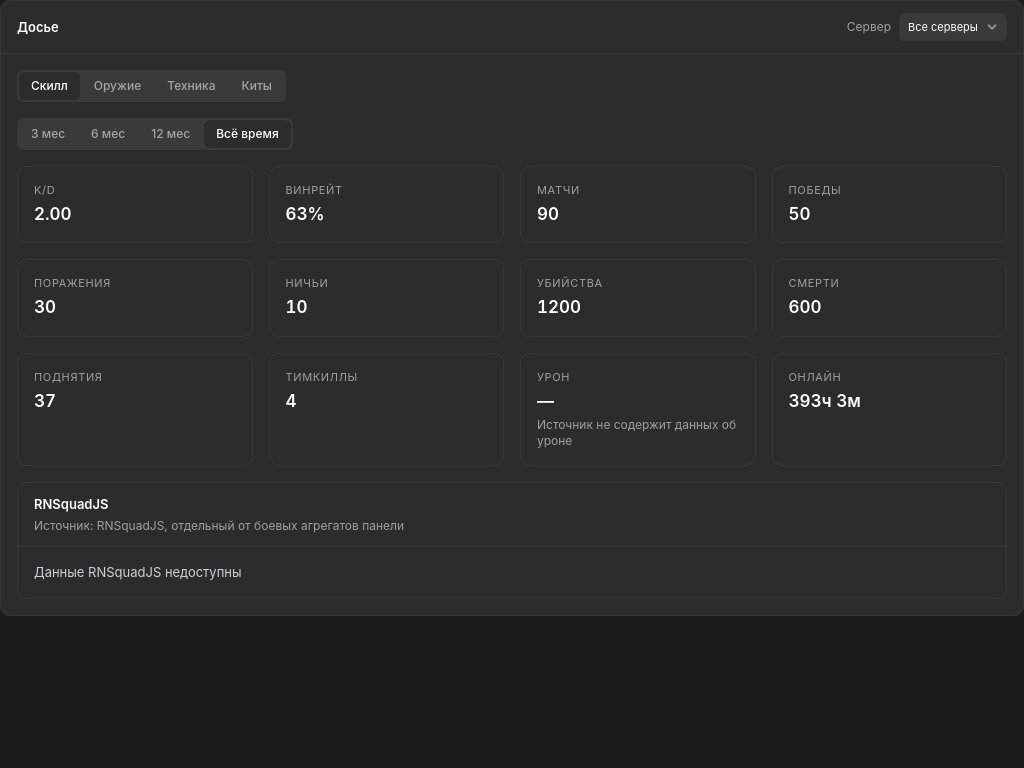
Test case: DossierSection › switching through all four tabs issues no additional fetch
The image size is (1024, 768).
expect the text "K/D" is shown: met, box [34, 183, 55, 197]
expect the dropdown labelled "Сервер" is shown: met, box [899, 13, 1007, 41]
Click the tab "Оружие". click: (117, 86)
box: [82, 72, 153, 100]
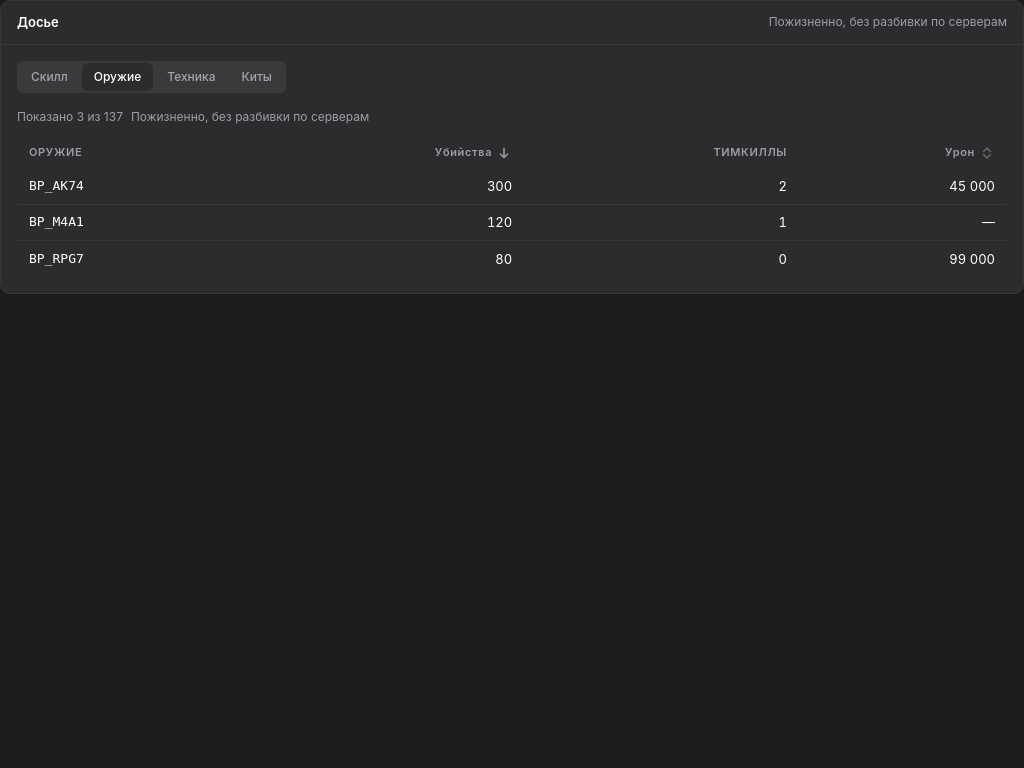
expect the text "Показано 3 из 137" is shown: met, box [17, 109, 123, 124]
Click the tab "Техника". click: (191, 77)
box: [155, 63, 228, 91]
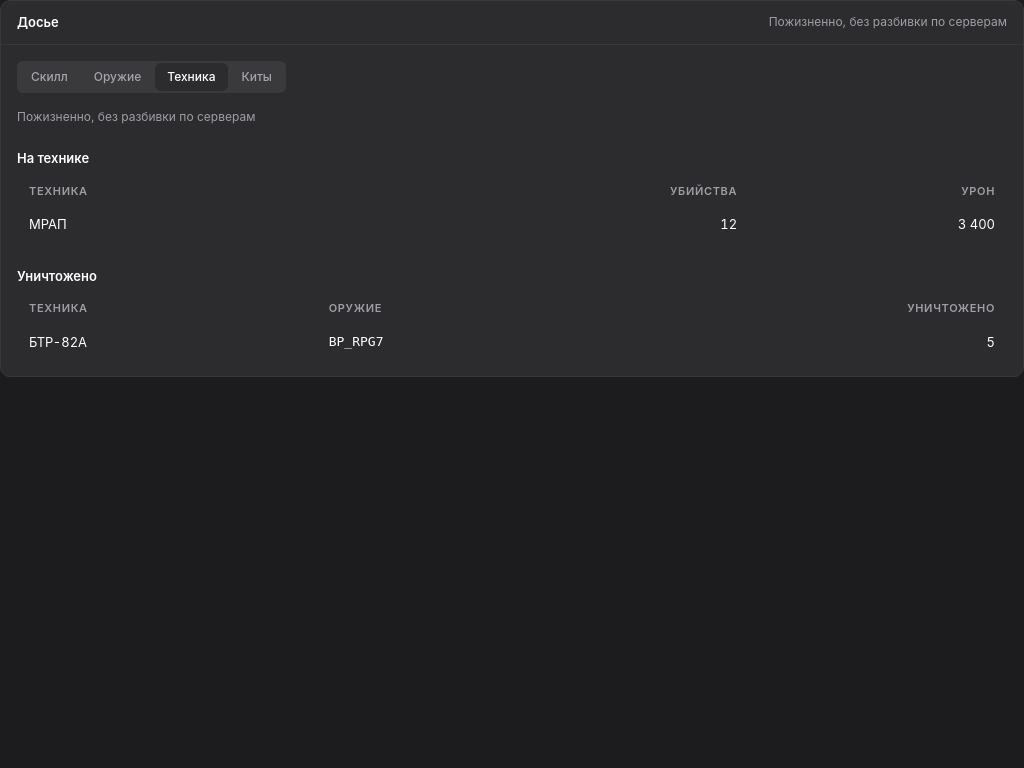
expect the heading "На технике" is shown: met, box [17, 150, 89, 166]
Click the tab "Киты". click: (257, 77)
box: [230, 63, 284, 91]
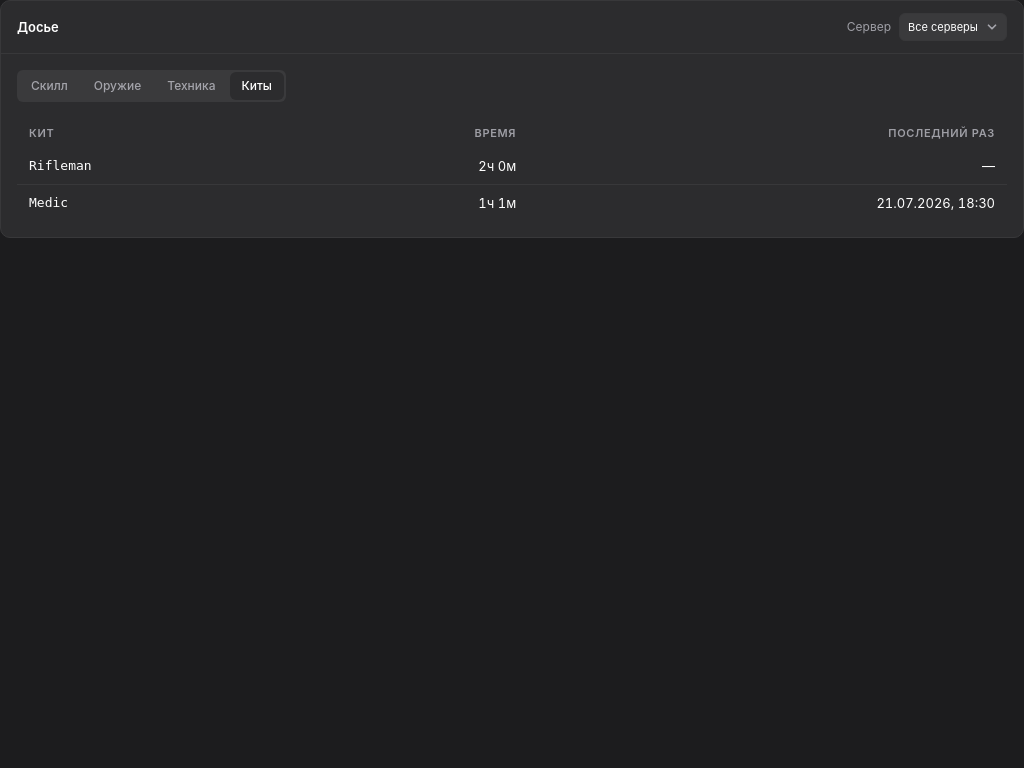
expect the column heading "Кит" is shown: met, box [17, 118, 308, 149]
